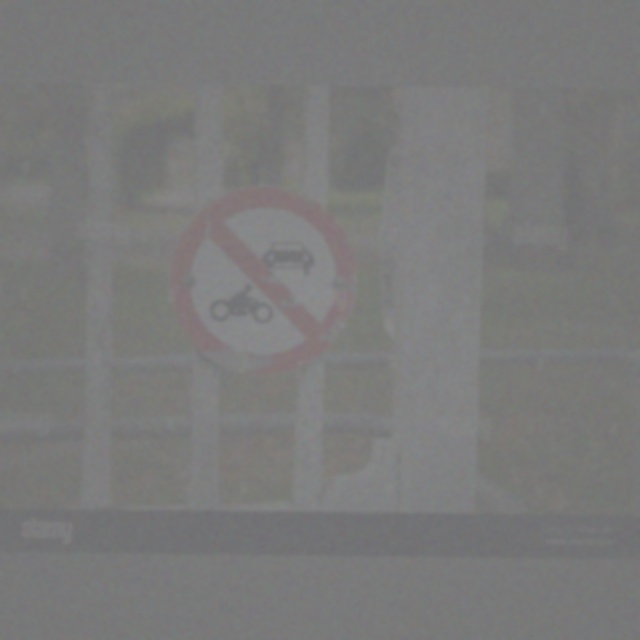All_Motor_Vehicles_Prohibited: (165, 187, 354, 379)
